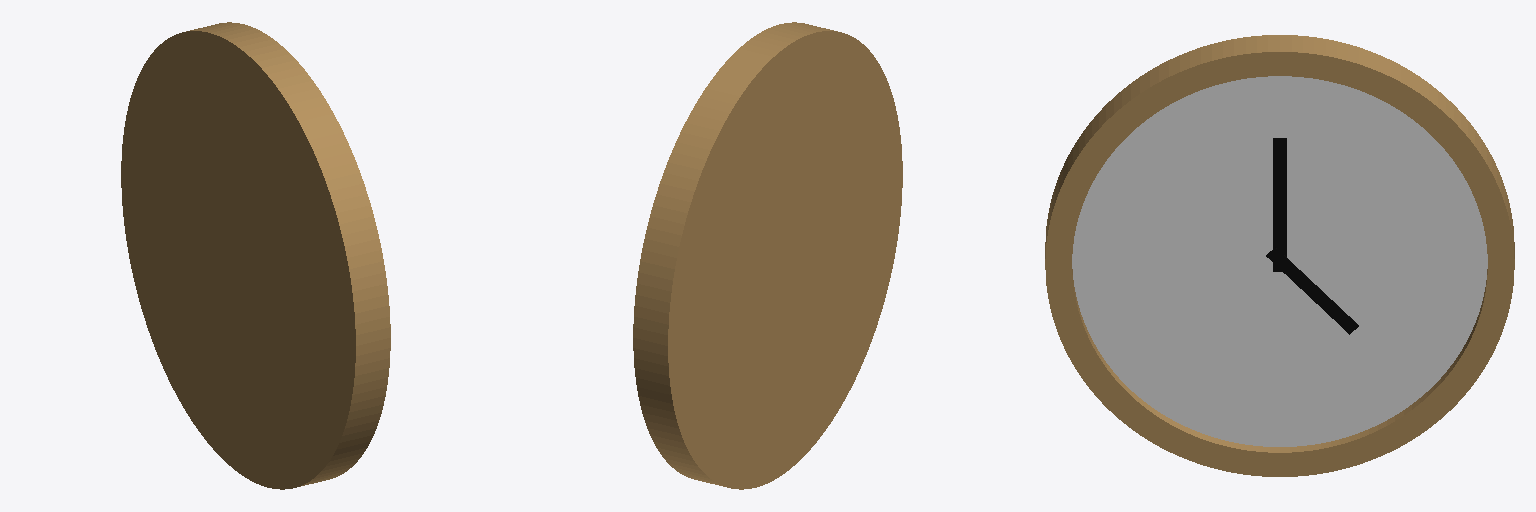
The model's file is clock.obj.
3 views of the same model, side by side, from view 1: azimuth 30°, elevation 25°; view 2: azimuth 150°, elevation 25°; view 3: azimuth 270°, elevation 25° (orthographic).
Visible parts, largest first — view 1: Body_円柱; view 2: Body_円柱; view 3: Body_円柱, Hand_立方体.001, Hand.001_立方体.002.
Part boxes in pixels (x1,y1,x2,y2): Body_円柱: (121,22,390,489); Body_円柱: (633,22,902,489); Body_円柱: (1045,35,1514,476); Hand_立方体.001: (1273,138,1286,271); Hand.001_立方体.002: (1266,247,1358,334).
Size of the model in its own units: 0.03 by 0.35 by 0.35.